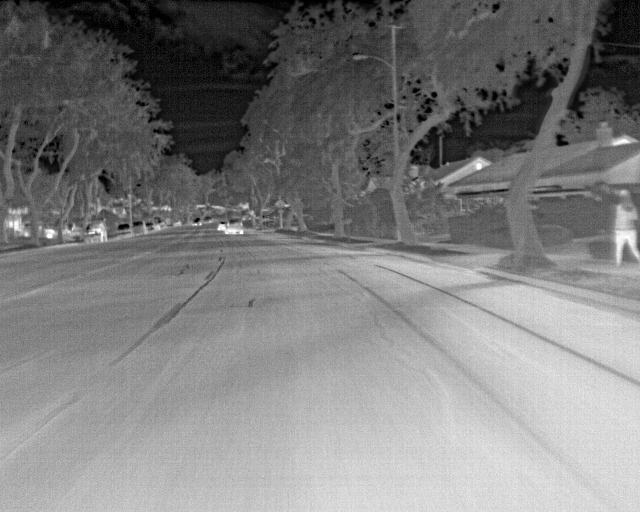vehicle: (222, 218, 247, 237)
